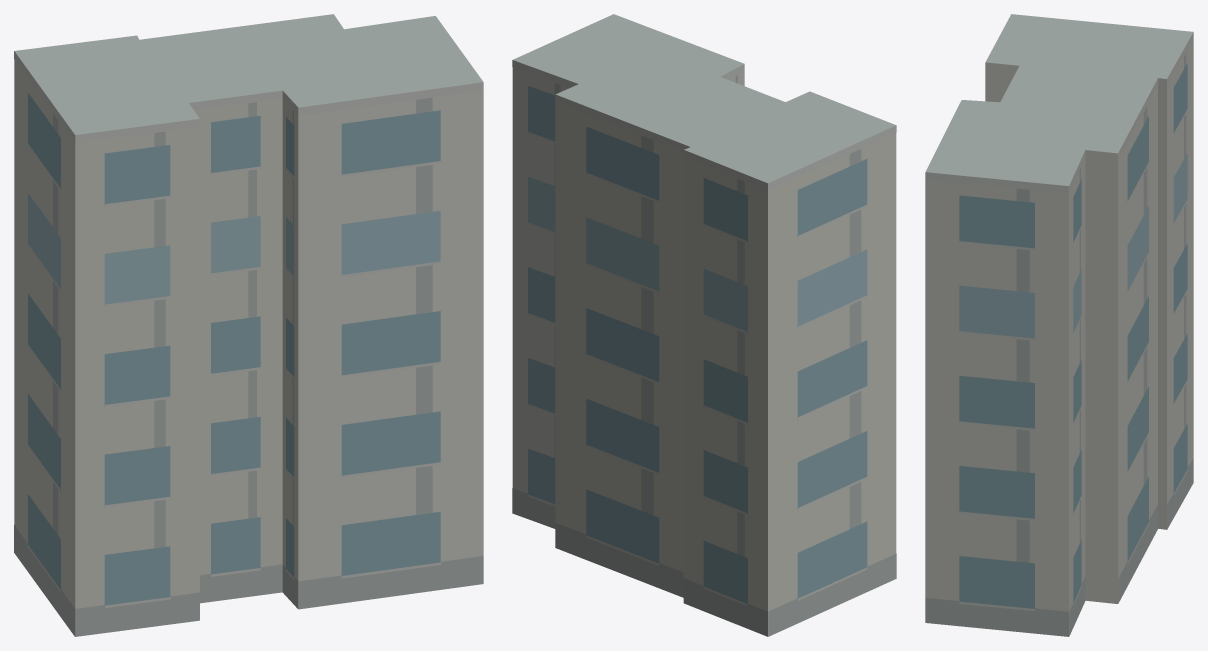
File: survey-upis-33005015.glb
3 renders of one model, left to right at view 1: azimuth 30°, elevation 25°; view 2: azimuth 150°, elevation 25°; view 3: azimuth 270°, elevation 25°, orthographic. The views are drawn at different scales.
Visible parts, largest first — view 1: survey-upis-33005015.tmp; view 2: survey-upis-33005015.tmp; view 3: survey-upis-33005015.tmp.
Boxes of the visible parts, x1,y1,x2,y2 form: survey-upis-33005015.tmp: [14, 14, 483, 636]; survey-upis-33005015.tmp: [512, 14, 896, 636]; survey-upis-33005015.tmp: [925, 14, 1193, 636].
Size of the model in its own units: 11.97 by 14.6 by 7.89.
